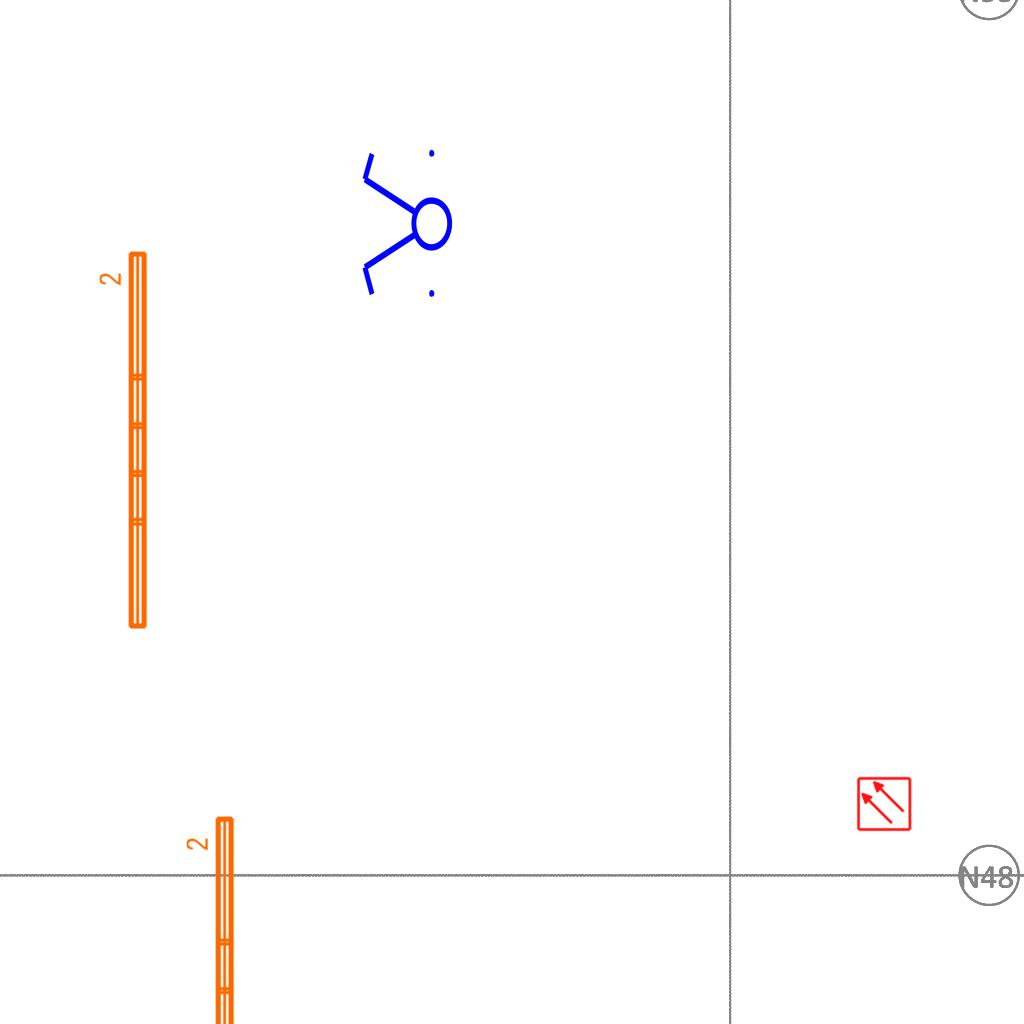Ambulanz_Pendelleuchte_LED: (97, 247, 153, 634), (184, 812, 240, 1024)
RMO_Rauchmelder_optischer: (856, 776, 912, 832)
Serienschalter: (358, 141, 454, 309)
